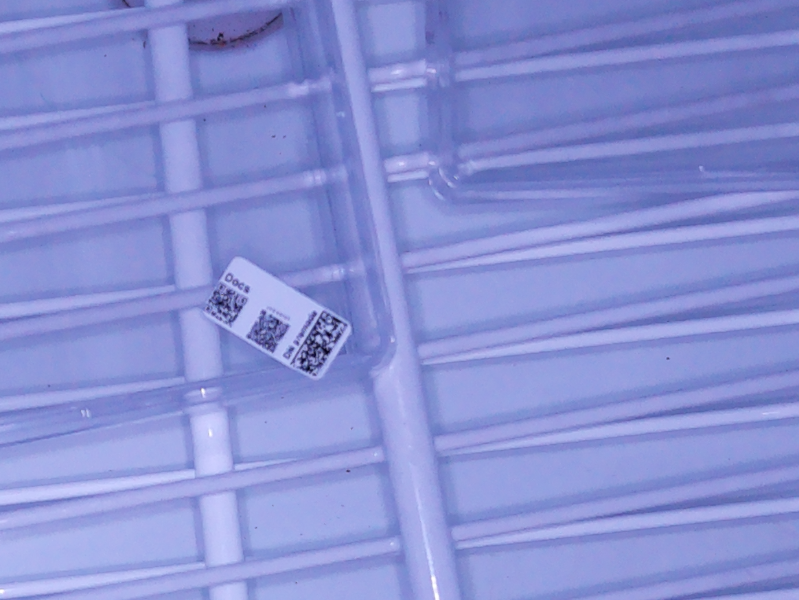plate: (1, 1, 400, 452), (417, 1, 799, 211)
